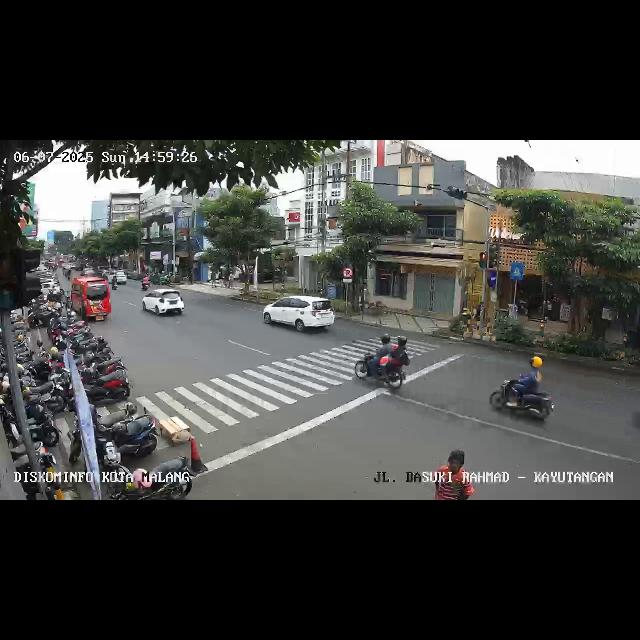car: (263, 294, 335, 336), (68, 276, 112, 322), (140, 288, 186, 320)
motorcycle: (491, 356, 555, 426), (351, 334, 412, 392)
person: (432, 448, 473, 499)
